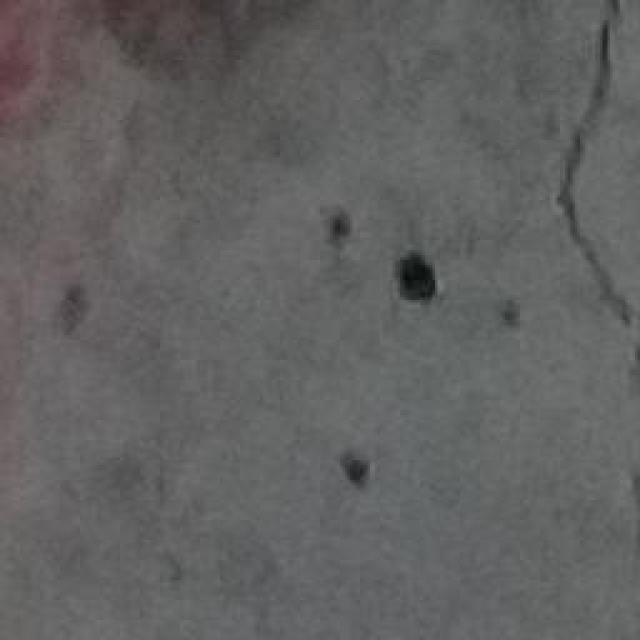Longitudinal: (537, 0, 640, 381)
